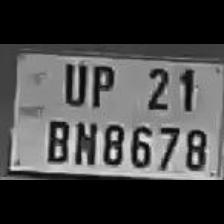1: (172, 63, 198, 113)
2: (141, 62, 171, 112)
6: (127, 120, 154, 168)
7: (153, 121, 179, 171)
8: (180, 122, 209, 172), (98, 119, 124, 166)
B: (43, 114, 70, 164)
N: (70, 116, 98, 166)
P: (84, 60, 116, 110)
U: (58, 57, 88, 107)
